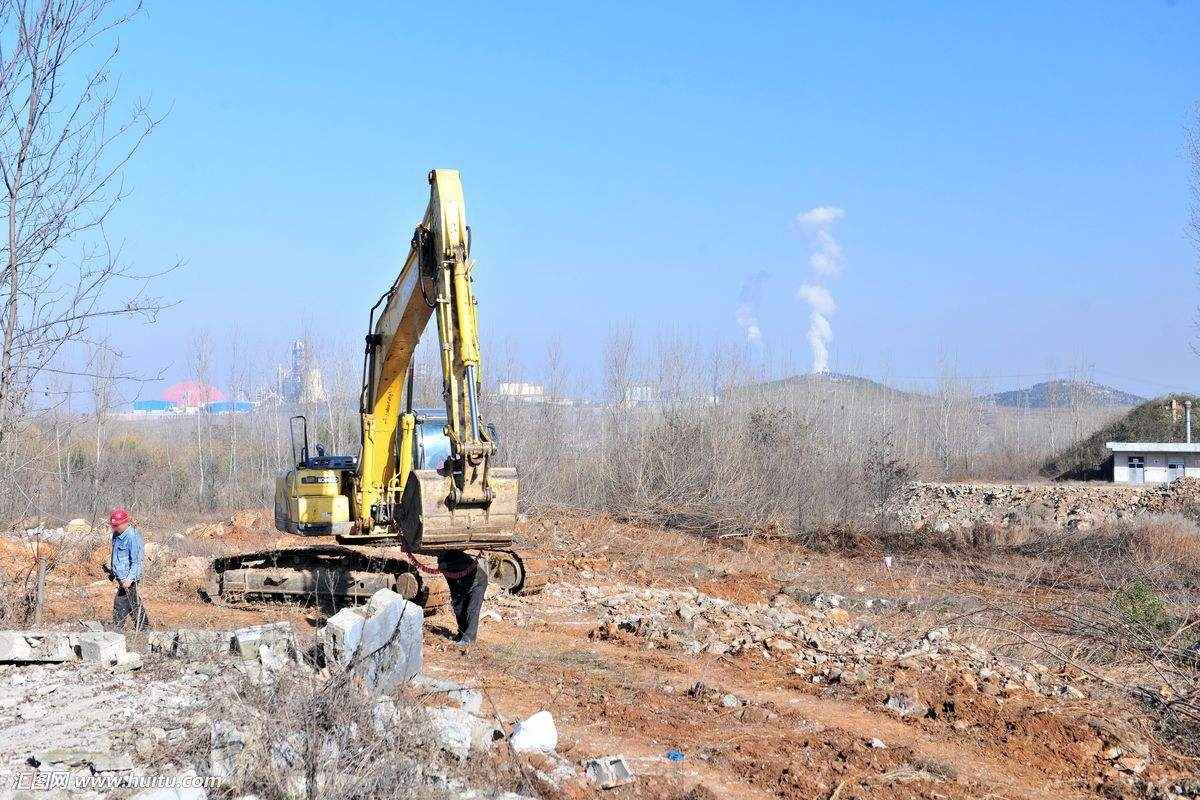red: (106, 508, 131, 536)
